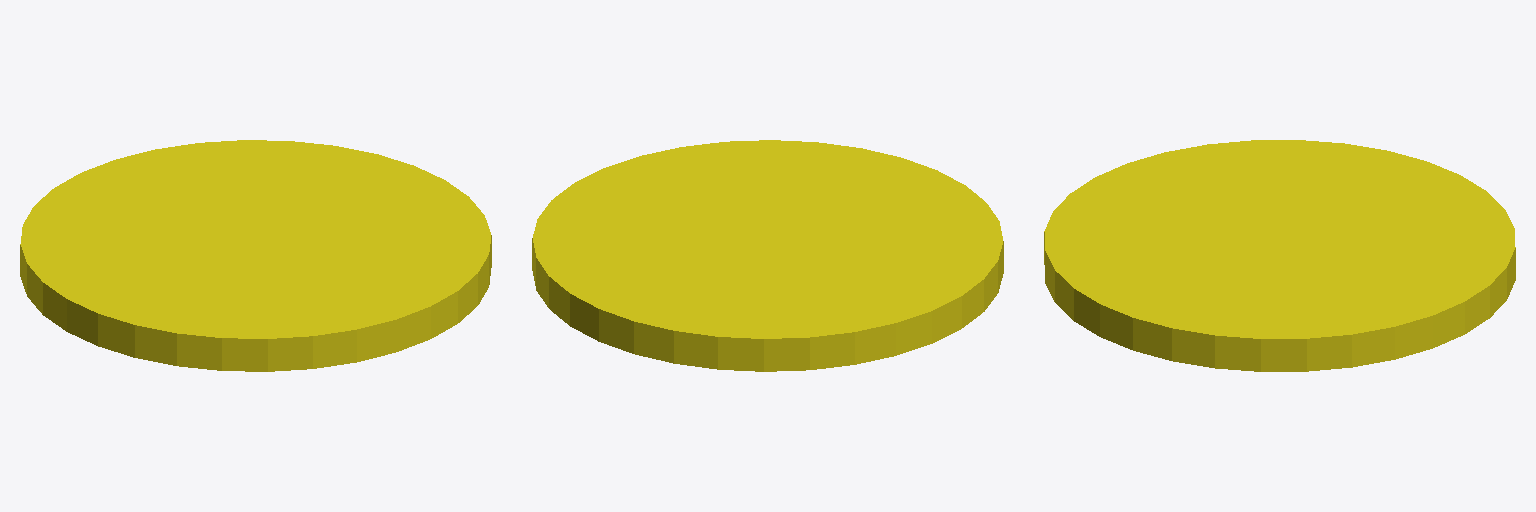
robot.urdf — Interference:
<?xml version="1.0"?>
<robot name="Interference">
  <link name="baseLink">
    <inertial>
      <origin xyz="0.0 0.0 0.0" rpy="0.0 0.0 0.0"/>
      <inertia ixx="0.0" ixy="0.0" ixz="0.0" iyy="0.0" iyz="0.0" izz="0.0"/>
      <mass value="0"/>
    </inertial>
    <visual>
      <origin xyz="0.0 0.0 0.0" rpy="0.0 0.0 -0.2773788500232035"/>
      <geometry>
        <cylinder radius="0.06504144759761056" length="0.01"/>
      </geometry>
      <material name="color">
        <color rgba="0.8983551338762348 0.8459424109694783 0.14324225648460176 1.0"/>
      </material>
    </visual>
  </link>
</robot>

--- What the picture shows (computed from the rendered views, not written in the file) ---
The picture shows the robot from 3 angles, left to right: view 1: azimuth 30°, elevation 25°; view 2: azimuth 150°, elevation 25°; view 3: azimuth 270°, elevation 25°; orthographic projection.
Robot: Interference — 1 links, 0 joints (none); root link baseLink; default pose: all joints at 0.
Links seen in each view (by area): view 1: baseLink; view 2: baseLink; view 3: baseLink.
Boxes of the visible links, <box> form: baseLink: <box>20,140,491,371</box>; baseLink: <box>532,140,1003,371</box>; baseLink: <box>1044,140,1515,371</box>.
Bounding box of the posed robot: 0.1297 × 0.1297 × 0.01 m (x, y, z).
Geometry: primitives only (box / cylinder / sphere), no mesh files.